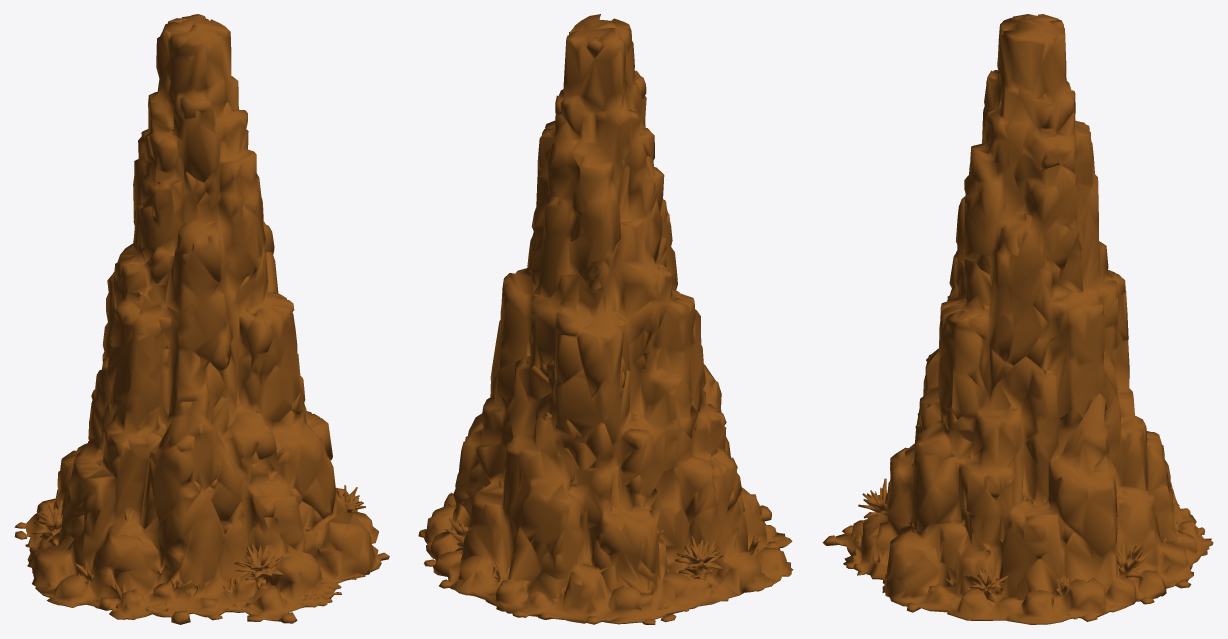
Rendered from formacion_rocosa.glb.
3 renders of one model, left to right at view 1: azimuth 30°, elevation 25°; view 2: azimuth 150°, elevation 25°; view 3: azimuth 270°, elevation 25°, orthographic.
Parts seen in each view (by area): view 1: formacion_rocosa; view 2: formacion_rocosa; view 3: formacion_rocosa.
Part boxes in pixels (box(x1,y1,x2,y2)): formacion_rocosa: box(14, 14, 389, 624); formacion_rocosa: box(418, 14, 793, 624); formacion_rocosa: box(822, 14, 1213, 624).
Size of what is drawn, in the model's own units: 2.3 by 3.5 by 2.36.
Materials: 1 (1 with a texture image).
